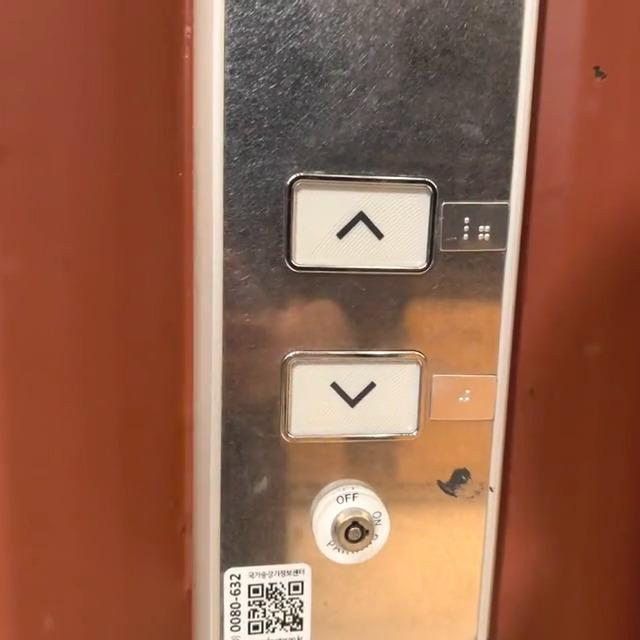button: (280, 169, 435, 272), (290, 354, 422, 445)
